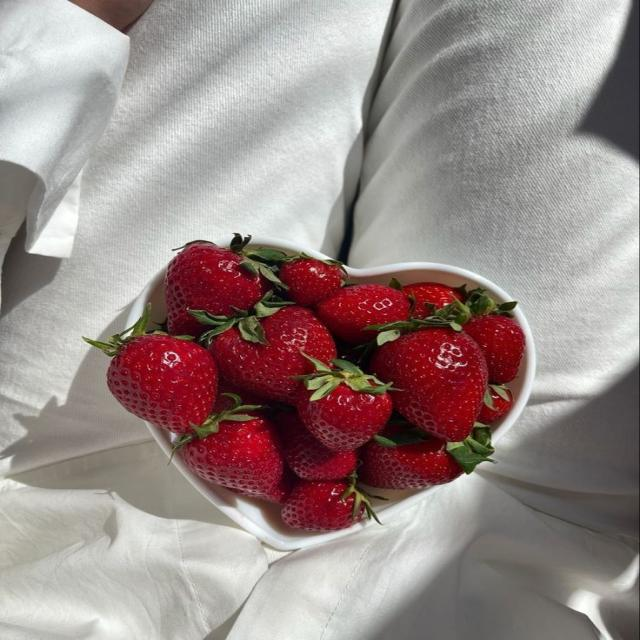strawberry: (85, 306, 217, 433), (369, 327, 487, 441), (210, 307, 336, 404), (177, 396, 286, 501), (165, 239, 270, 336), (296, 358, 393, 451), (359, 424, 493, 489), (359, 432, 462, 489), (274, 411, 357, 480), (315, 284, 410, 344), (281, 474, 379, 531), (464, 314, 525, 384), (279, 256, 343, 306), (403, 282, 463, 318), (213, 377, 267, 413), (260, 466, 296, 503), (478, 385, 513, 423)
